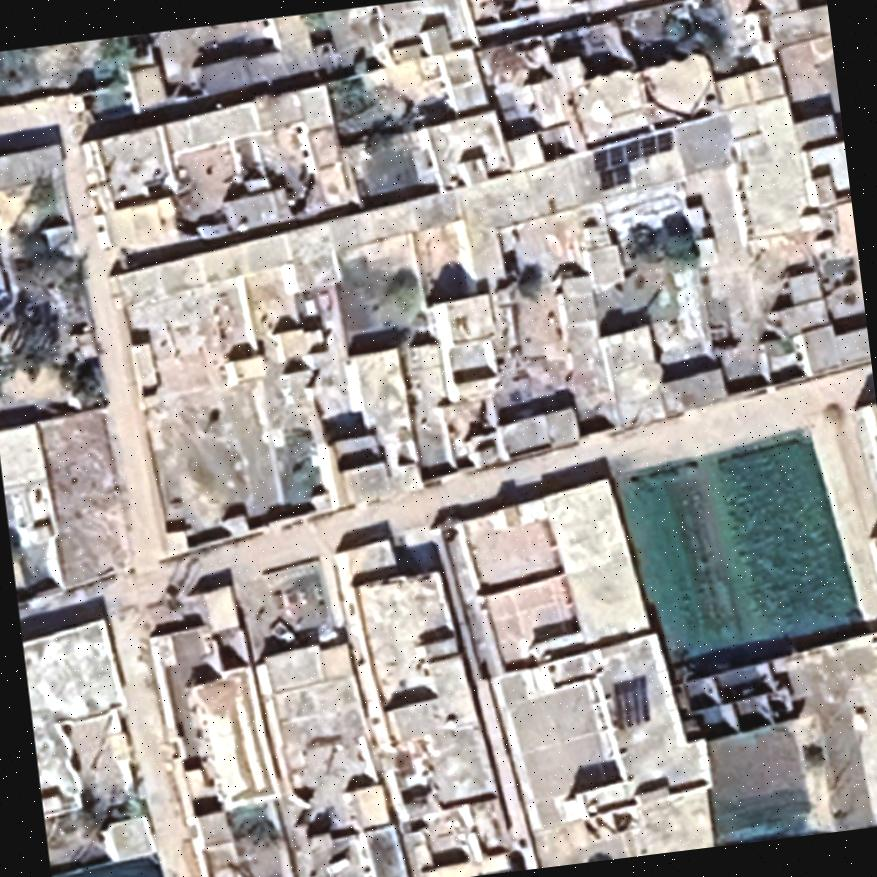Solarpanel: (586, 122, 683, 194), (601, 670, 656, 736)
